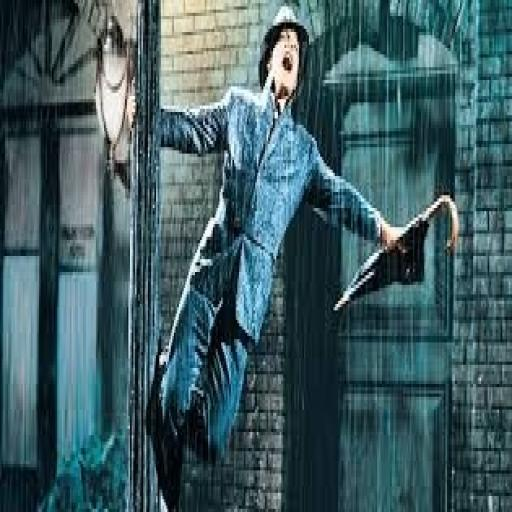dancing: (110, 0, 442, 482)
